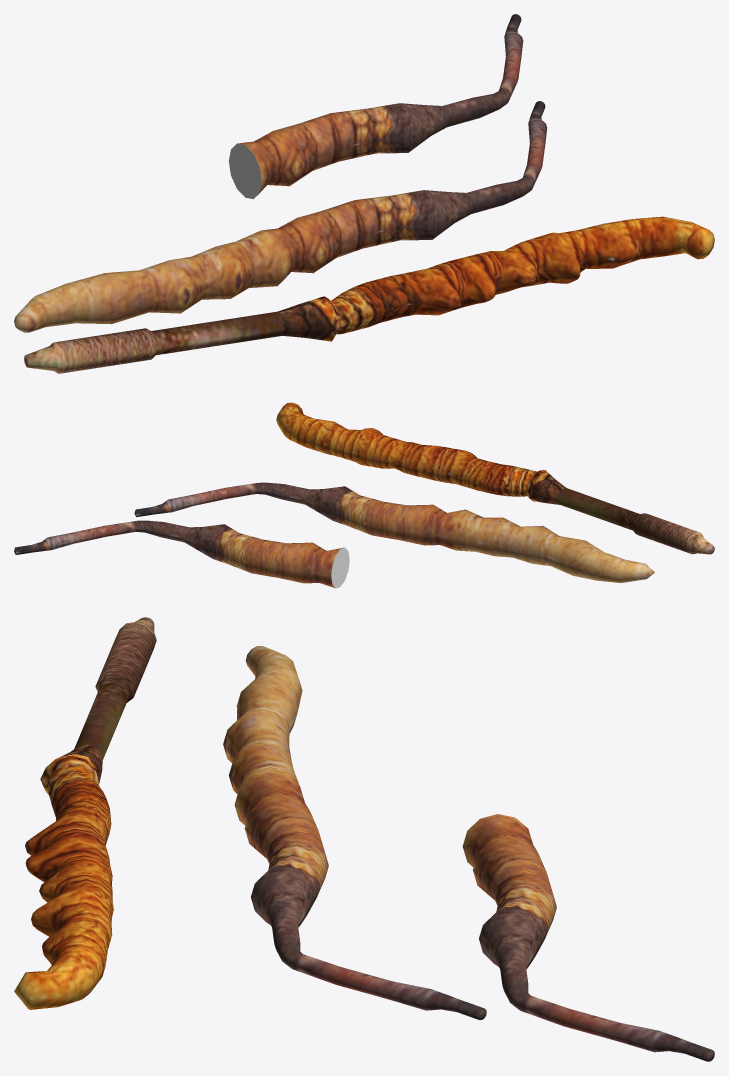
Rendered from dongchongxiacao.FBX.
3 views of the same model, one above another, from view 1: azimuth 30°, elevation 25°; view 2: azimuth 150°, elevation 25°; view 3: azimuth 270°, elevation 25° (orthographic). The views are drawn at different scales.
Parts seen in each view (by area): view 1: Cylinder002, Cylinder001, Cylinder003; view 2: Cylinder001, Cylinder002, Cylinder003; view 3: Cylinder002, Cylinder001, Cylinder003.
Part boxes in pixels (box(x1,y1,x2,y2)): Cylinder002: box(24, 216, 714, 373); Cylinder001: box(14, 101, 547, 332); Cylinder003: box(228, 14, 523, 199); Cylinder001: box(134, 482, 654, 582); Cylinder002: box(276, 402, 714, 554); Cylinder003: box(14, 520, 349, 588); Cylinder002: box(14, 617, 156, 1009); Cylinder001: box(223, 646, 486, 1020); Cylinder003: box(462, 814, 714, 1061).
Bounding box in the file's own units: 52.76 × 3.93 × 36.6.
Materials: 1 (1 with a texture image).
